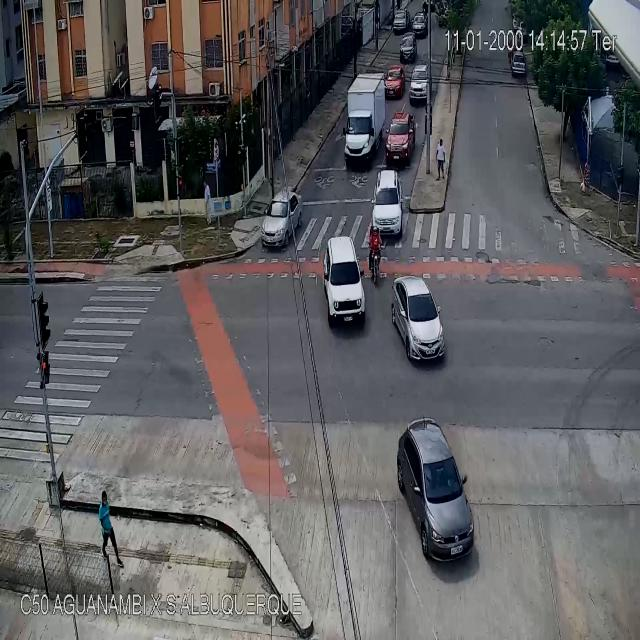Car: (397, 423, 475, 558), (392, 276, 446, 360), (323, 234, 365, 327), (262, 186, 300, 244), (373, 171, 403, 238), (387, 113, 413, 158), (410, 65, 430, 103), (401, 33, 416, 64), (393, 10, 409, 36), (412, 16, 428, 40), (511, 54, 524, 78), (384, 68, 394, 97)
Motorcycle: (368, 224, 380, 283)
Truck: (343, 70, 384, 162)
